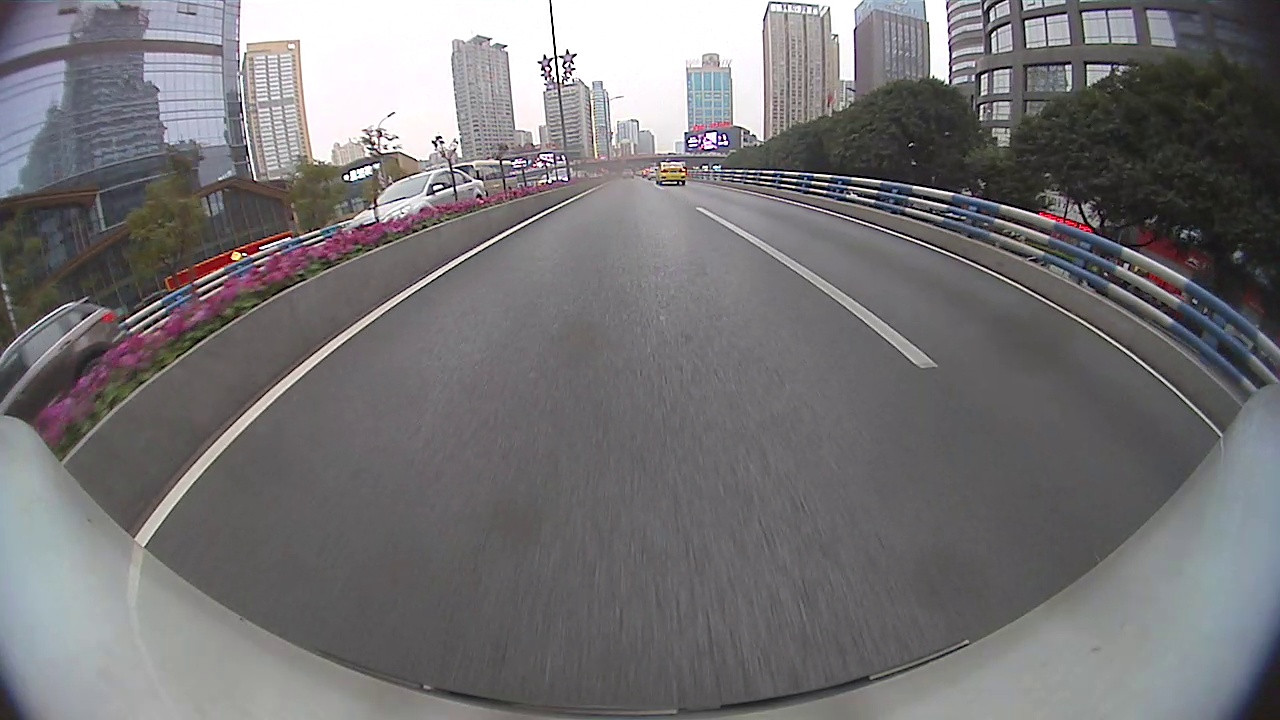bus: (452, 158, 519, 201)
car: (1, 295, 130, 422), (346, 166, 489, 234), (654, 158, 689, 186)
